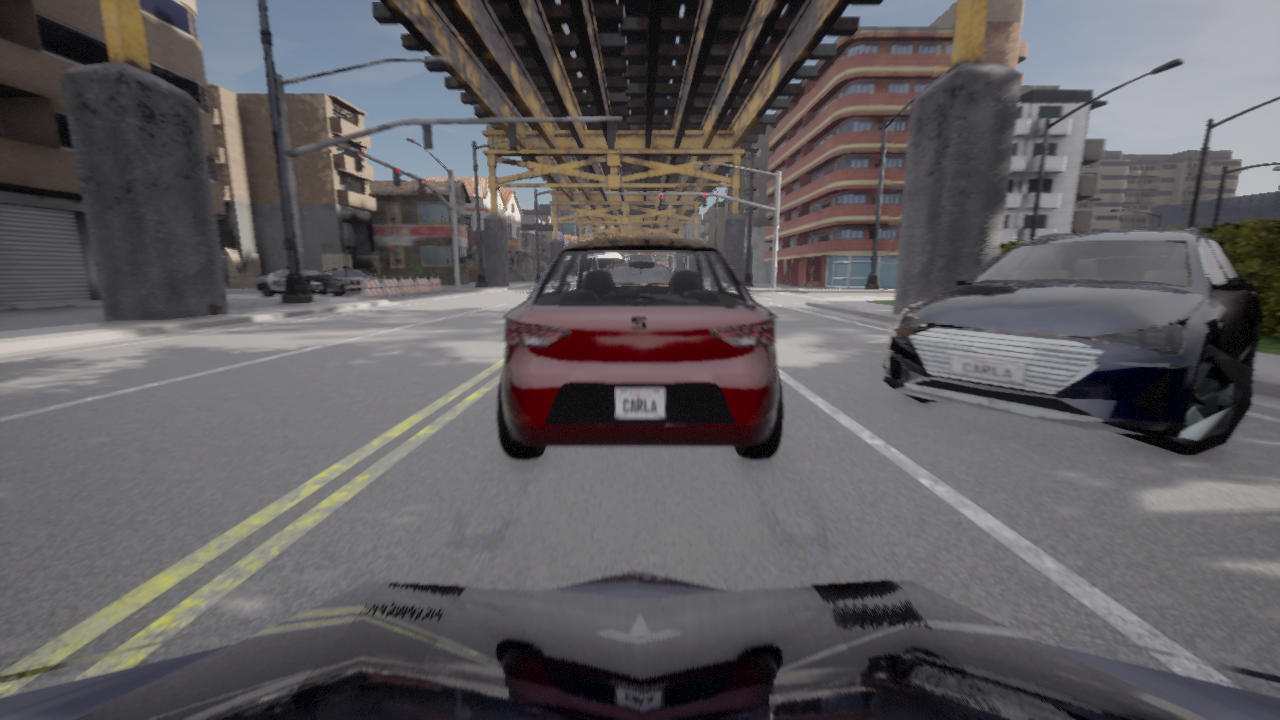cyclist: (0, 569, 1279, 719), (882, 228, 1262, 455), (497, 238, 783, 458), (256, 266, 345, 296), (323, 267, 399, 290), (316, 273, 331, 291)
